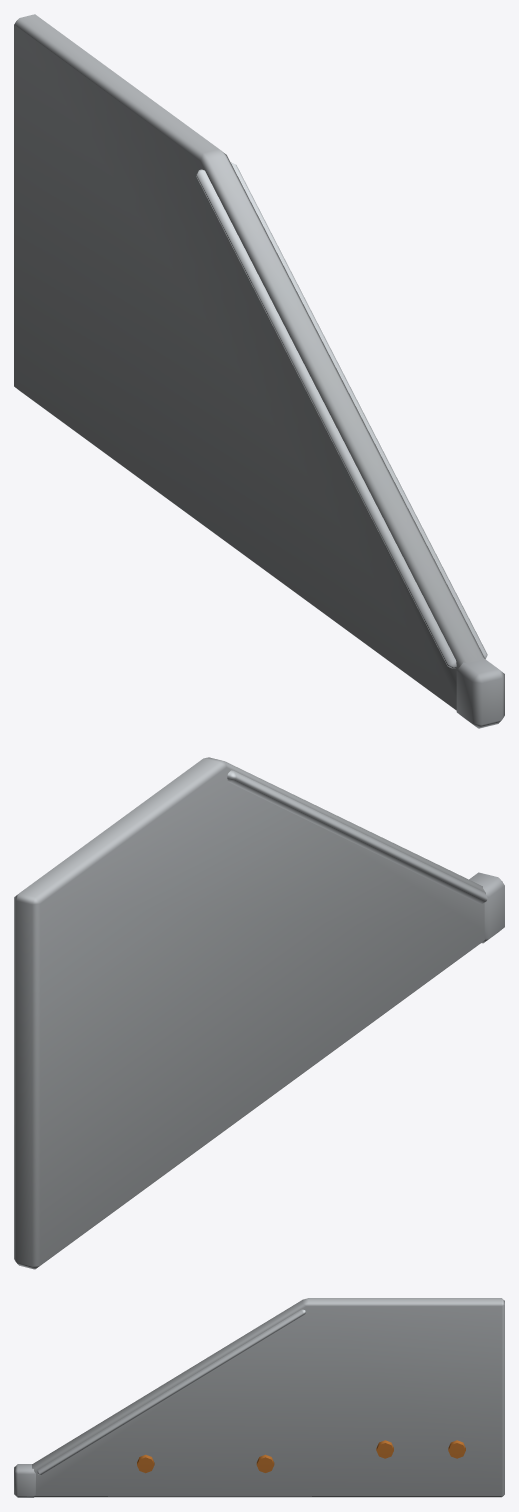
Rendered from SM_Hood_EndPanel_01.glb.
3 views of the same model, one above another, from view 1: azimuth 30°, elevation 25°; view 2: azimuth 150°, elevation 25°; view 3: azimuth 270°, elevation 25° (orthographic). The views are drawn at different scales.
Parts seen in each view (by area): view 1: SM_Hood_EndPanel_01; view 2: SM_Hood_EndPanel_01; view 3: SM_Hood_EndPanel_01.
Boxes of the visible parts, x1,y1,x2,y2 form: SM_Hood_EndPanel_01: [14, 14, 504, 728]; SM_Hood_EndPanel_01: [14, 757, 504, 1269]; SM_Hood_EndPanel_01: [14, 1298, 504, 1497].
Size of the model in its own units: 0.066 by 0.54 by 1.23.
1 material, 1 textured.
